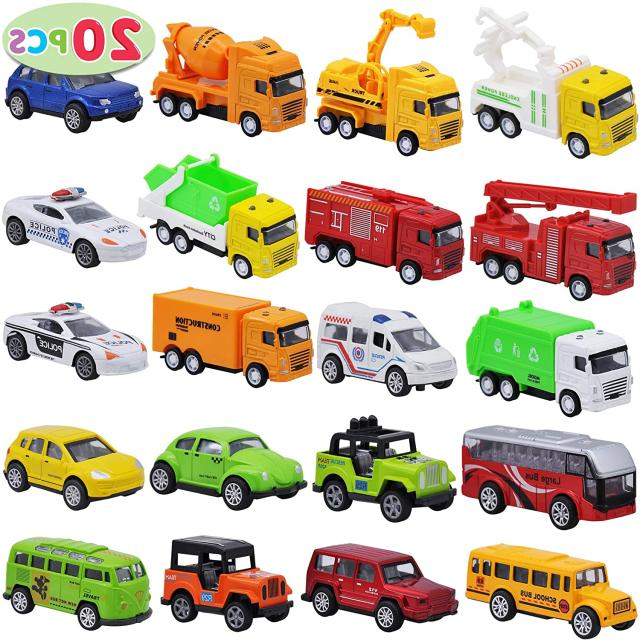Car: (150, 426, 308, 511), (3, 424, 145, 511), (2, 186, 148, 268), (4, 301, 149, 381), (5, 64, 144, 134)
